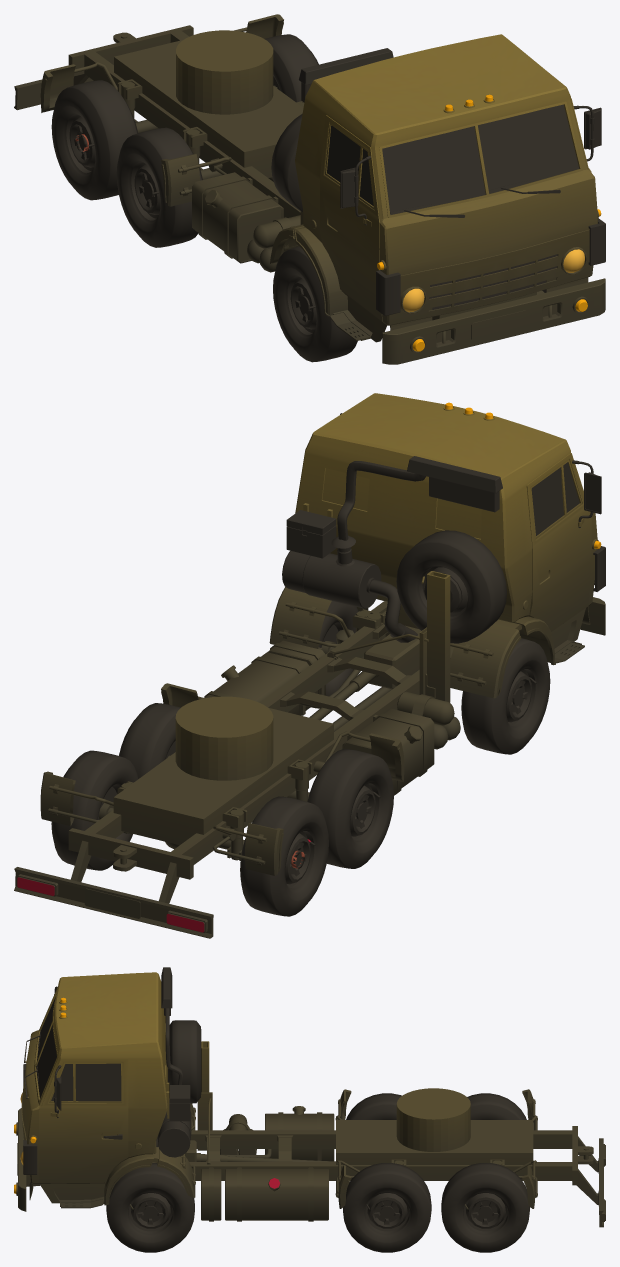
The model's file is kamaz-export.fbx.
3 views of the same model, one above another, from view 1: azimuth 30°, elevation 25°; view 2: azimuth 150°, elevation 25°; view 3: azimuth 270°, elevation 25° (orthographic). The views are drawn at different scales.
Visible parts, largest first — view 1: Kamaz, Kamaz.004, Kamaz.005, Kamaz.006, Kamaz.001; view 2: Kamaz, Kamaz.005, Kamaz.004, Kamaz.006, Kamaz.001, Kamaz.003, Kamaz.002; view 3: Kamaz, Kamaz.001, Kamaz.003, Kamaz.002, Kamaz.004, Kamaz.005.
Boxes of the visible parts, bbox=[...] form: Kamaz: bbox=[14, 14, 605, 364]; Kamaz.004: bbox=[51, 80, 137, 200]; Kamaz.005: bbox=[116, 127, 202, 247]; Kamaz.006: bbox=[273, 246, 357, 362]; Kamaz.001: bbox=[264, 34, 318, 102]; Kamaz: bbox=[14, 393, 605, 938]; Kamaz.005: bbox=[307, 749, 393, 868]; Kamaz.004: bbox=[240, 796, 328, 916]; Kamaz.006: bbox=[461, 638, 550, 754]; Kamaz.001: bbox=[51, 750, 138, 870]; Kamaz.003: bbox=[119, 703, 180, 778]; Kamaz.002: bbox=[318, 601, 358, 696]; Kamaz: bbox=[14, 967, 605, 1227]; Kamaz.001: bbox=[441, 1163, 529, 1252]; Kamaz.003: bbox=[343, 1163, 431, 1252]; Kamaz.002: bbox=[106, 1163, 194, 1252]; Kamaz.004: bbox=[467, 1093, 526, 1119]; Kamaz.005: bbox=[346, 1093, 401, 1119].
Size of the model in its own units: 329 by 334 by 854.
